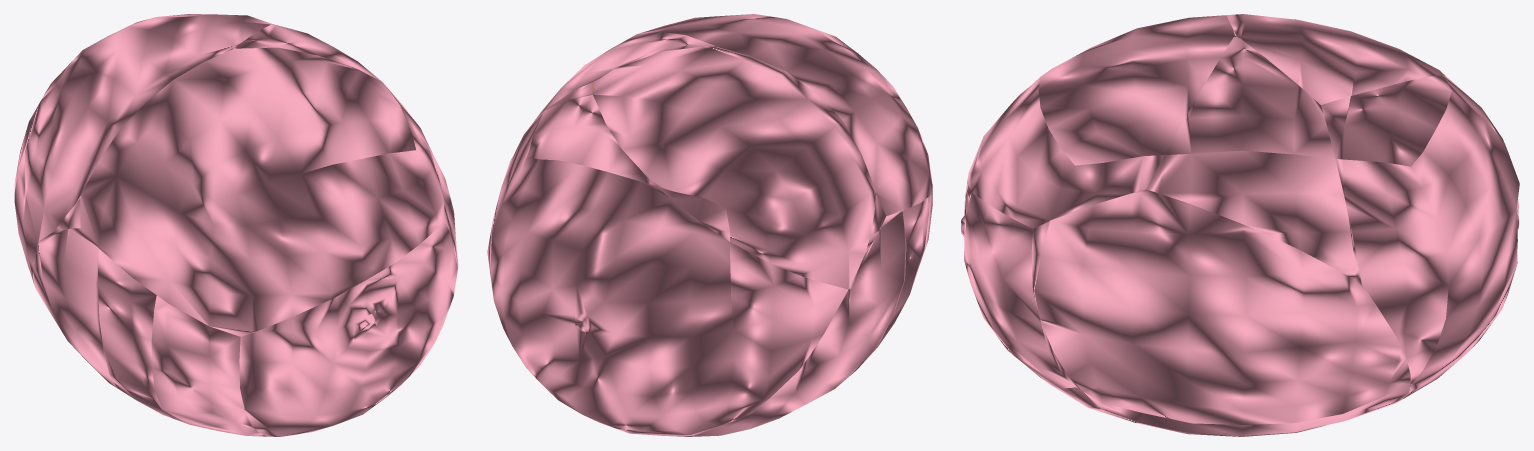
File: fruit_watermelon_destructible_1_a.glb
3 renders of one model, left to right at view 1: azimuth 30°, elevation 25°; view 2: azimuth 150°, elevation 25°; view 3: azimuth 270°, elevation 25°, orthographic. The views are drawn at different scales.
Size of the model in its own units: 0.1904 by 0.1904 by 0.2557.
